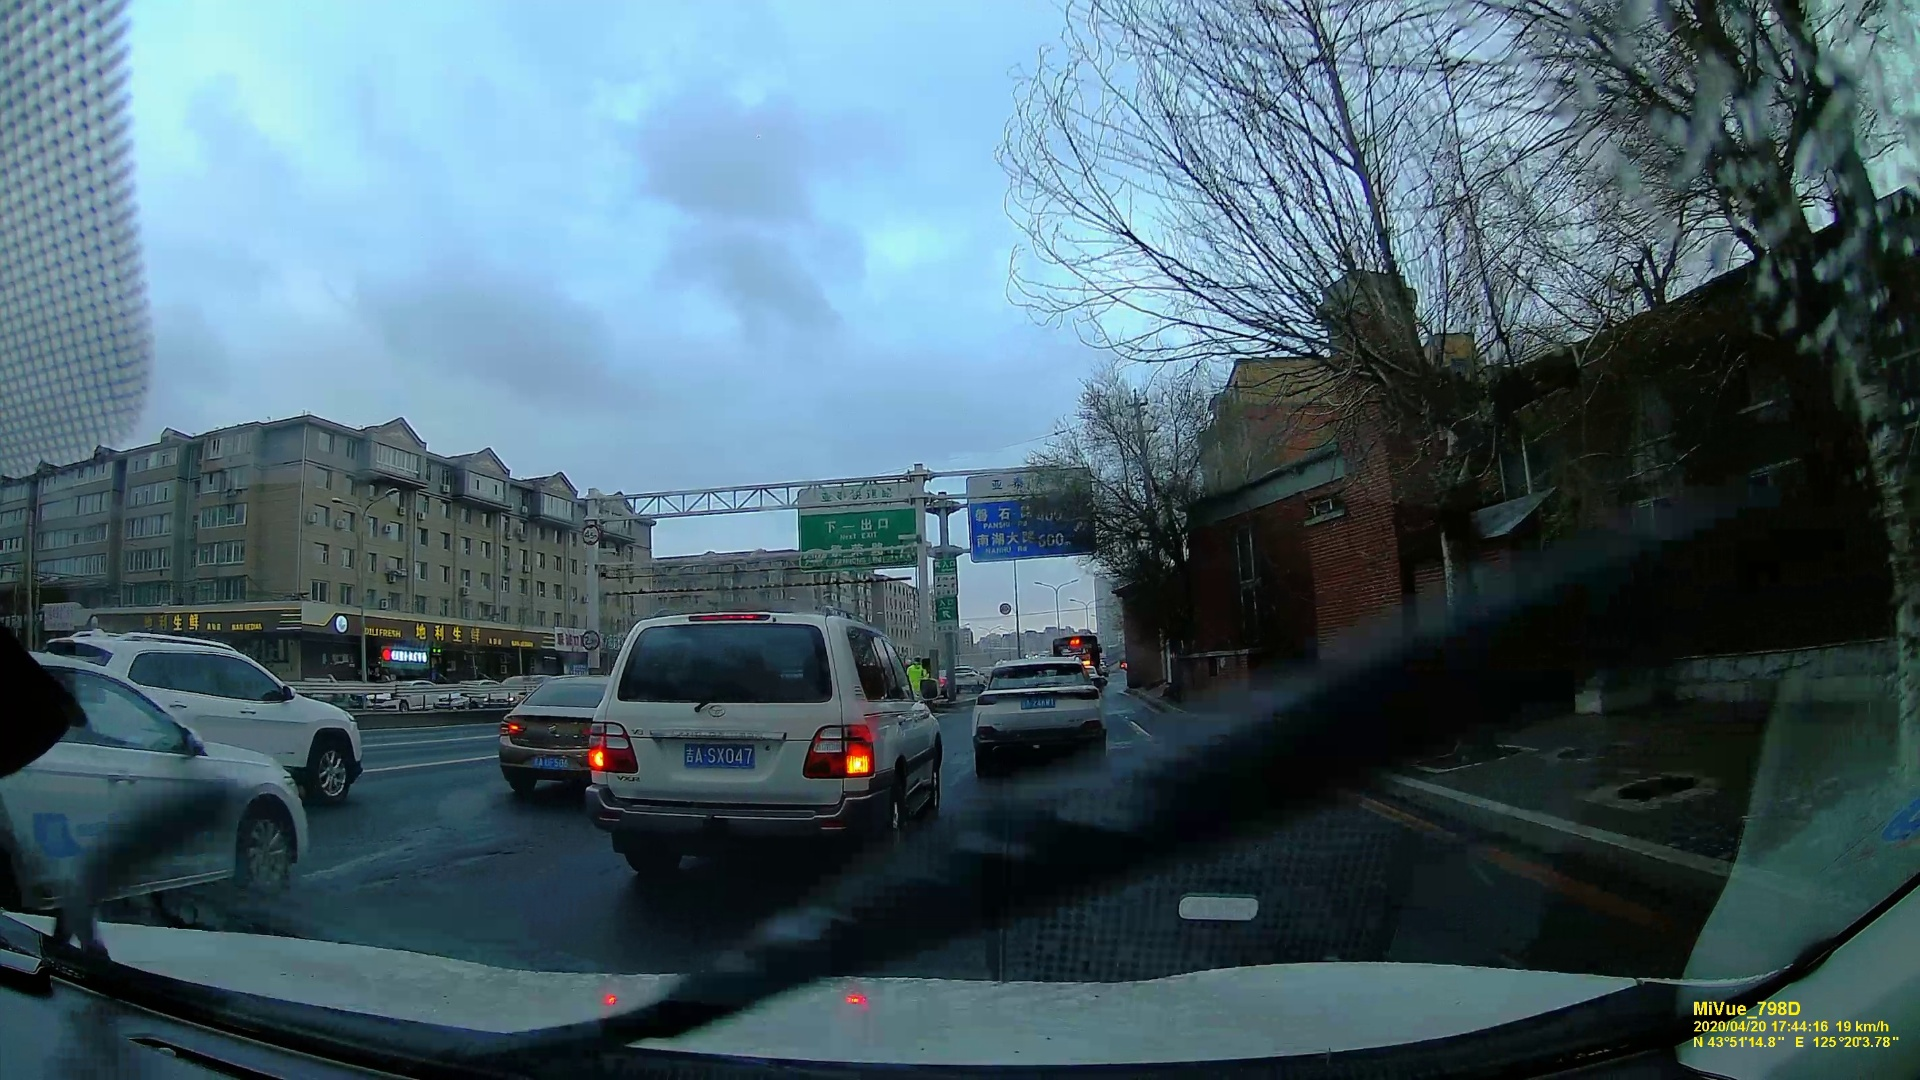person: (906, 652, 928, 699)
traffic_sign: (965, 464, 1091, 556), (797, 486, 911, 559)
vehicle: (564, 596, 950, 842), (3, 665, 303, 922), (44, 627, 370, 808), (969, 656, 1111, 760)
